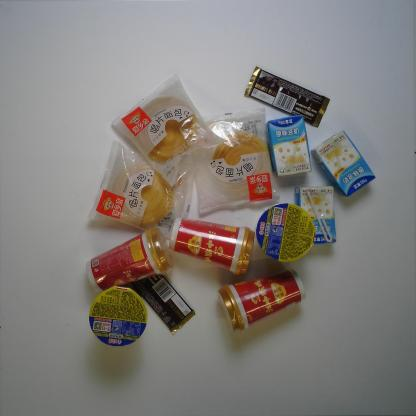Chocolate: (243, 65, 331, 129), (132, 273, 196, 335)
Dessert: (110, 72, 229, 188), (85, 141, 196, 239), (194, 106, 281, 214)
Instant Drink: (216, 268, 308, 334), (85, 226, 174, 294), (168, 218, 256, 276)
Instant Noodles: (87, 284, 150, 348), (255, 202, 317, 263)
Milk: (310, 129, 377, 198), (266, 114, 314, 178), (294, 184, 337, 244)
